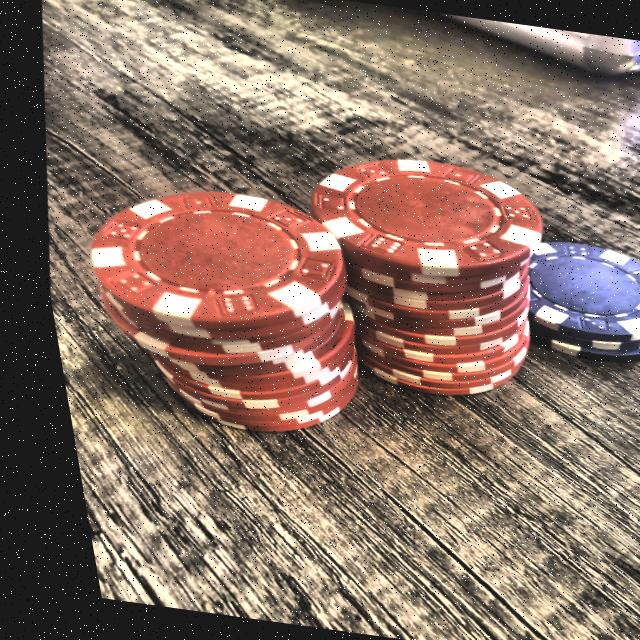Chip: (44, 172, 381, 448), (270, 142, 568, 410), (486, 231, 640, 373)
